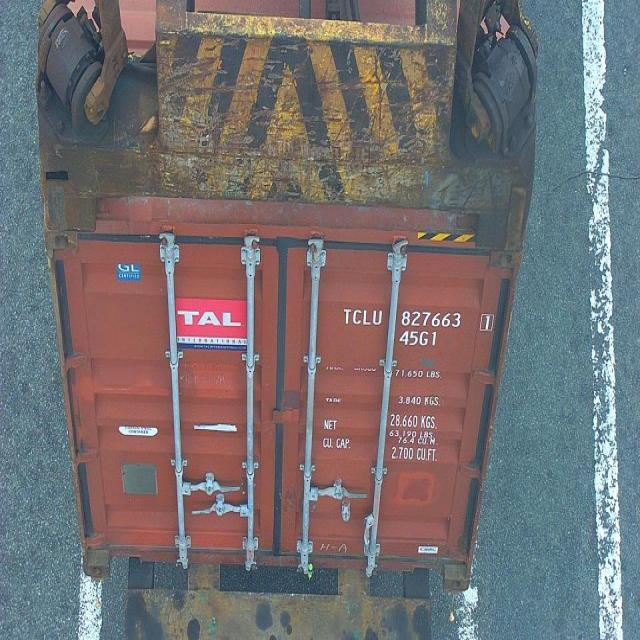ISO: (398, 330, 436, 347)
container_number: (342, 303, 496, 332)
